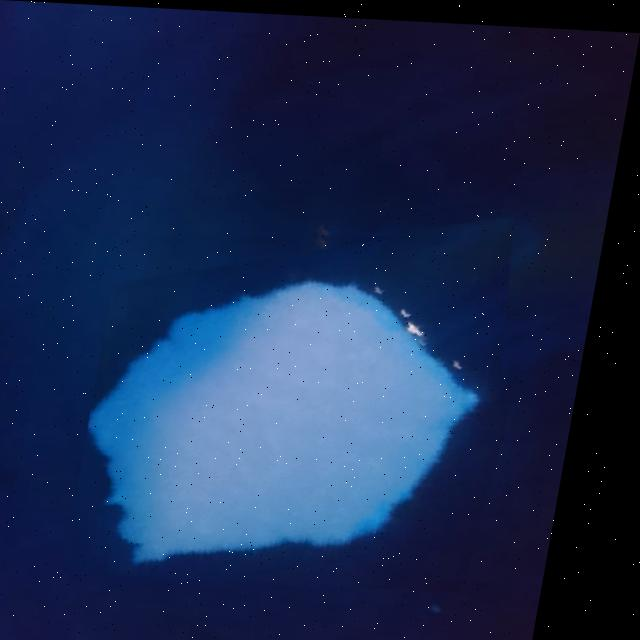thermocoal: (82, 213, 563, 588)
